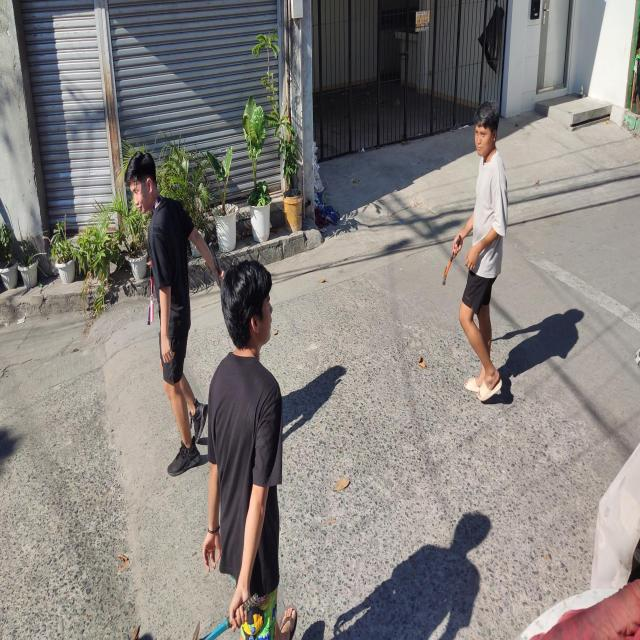hammer: (192, 593, 258, 640), (442, 235, 461, 286)
